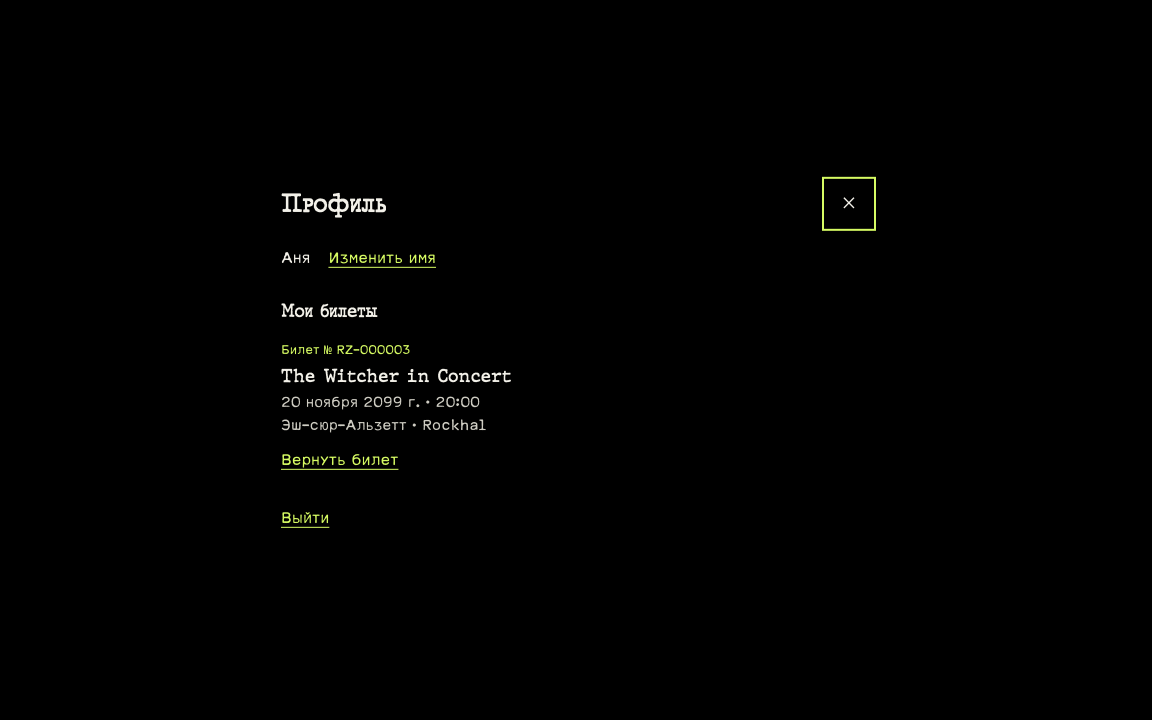
показывает ошибку сервера и оставляет билет, если вернуть не удалось
Click the button "Вернуть билет" at (340, 460), box x1=281 y1=440 x2=398 y2=480
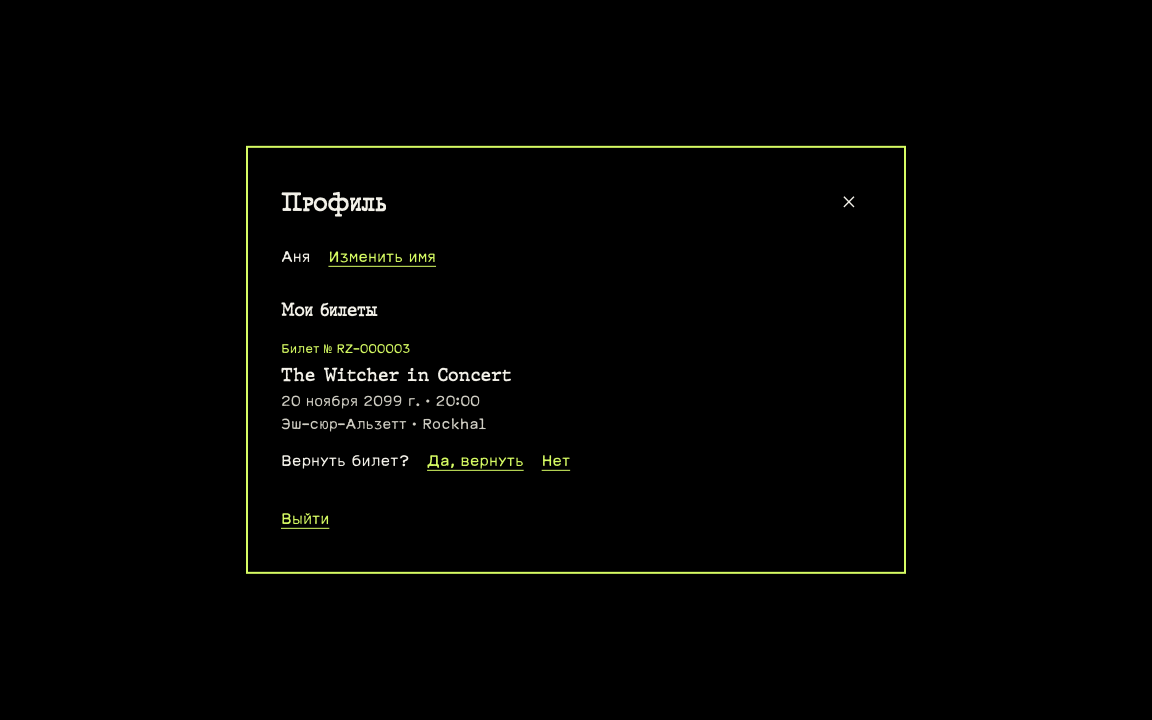
Click the button "Да, вернуть" at (475, 461), box x1=427 y1=441 x2=524 y2=481
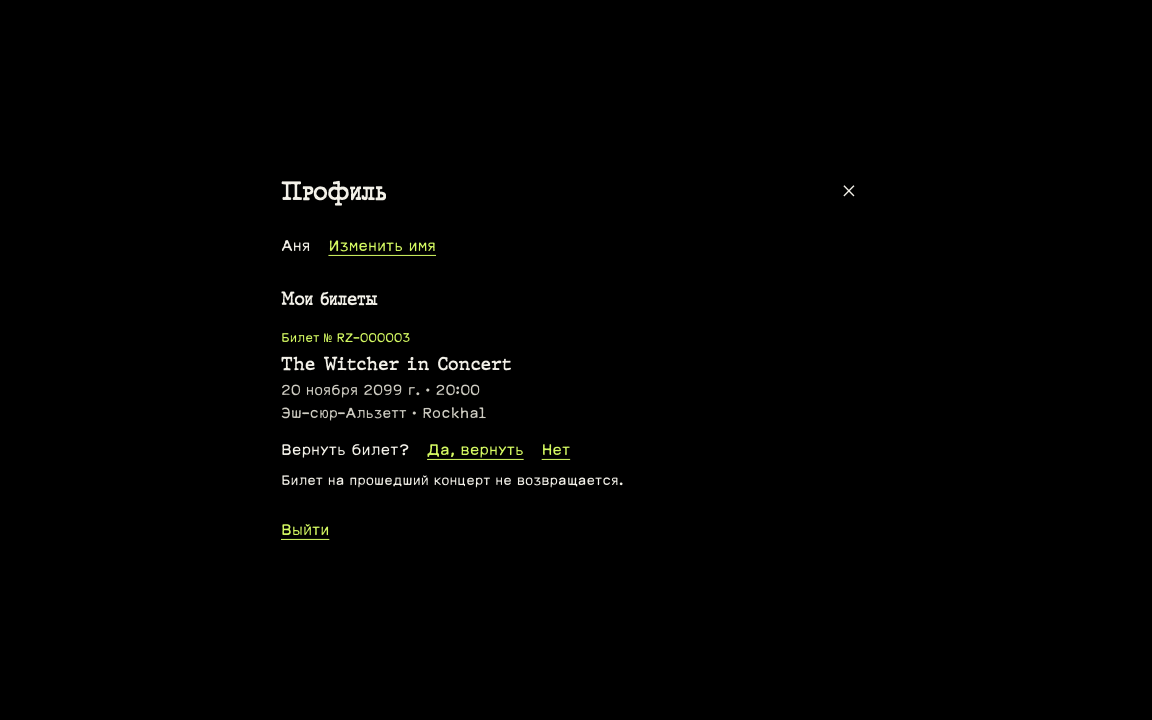
Expected: the list item is shown, x1=281 y1=330 x2=623 y2=488
Expected: the text "Билет на прошедший концерт не возвращается." is shown, x1=281 y1=472 x2=623 y2=488
